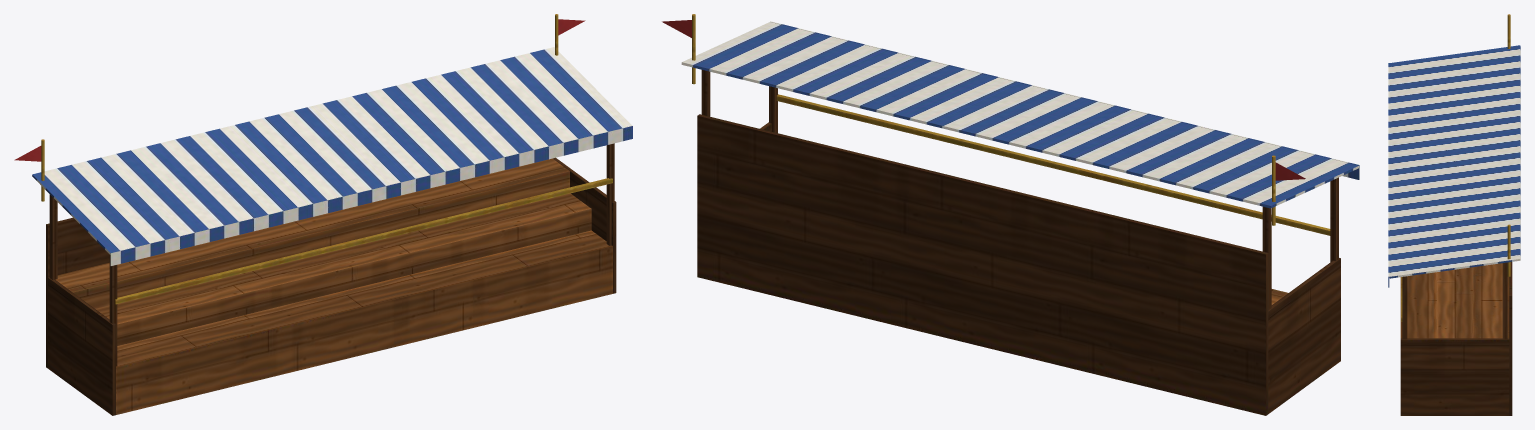
File: judges_box.glb
The picture shows the model from 3 angles, left to right: view 1: azimuth 30°, elevation 25°; view 2: azimuth 150°, elevation 25°; view 3: azimuth 270°, elevation 25°; orthographic projection. The views are drawn at different scales.
Visible parts, largest first — view 1: props_0_0; view 2: props_0_0; view 3: props_0_0.
Boxes of the visible parts, x1,y1,x2,y2 form: props_0_0: (14, 14, 632, 415); props_0_0: (662, 14, 1359, 415); props_0_0: (1388, 14, 1520, 415).
Bounding box in the file's own units: 13.8 × 5.3 × 3.3.
2 materials, 2 textured.
